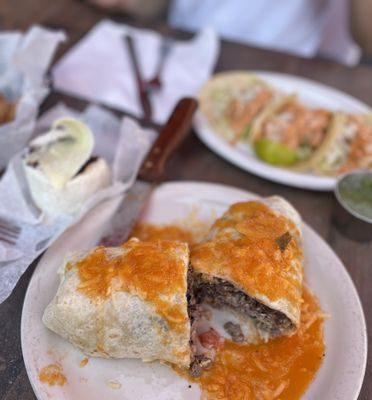soup: (186, 196, 308, 370)
